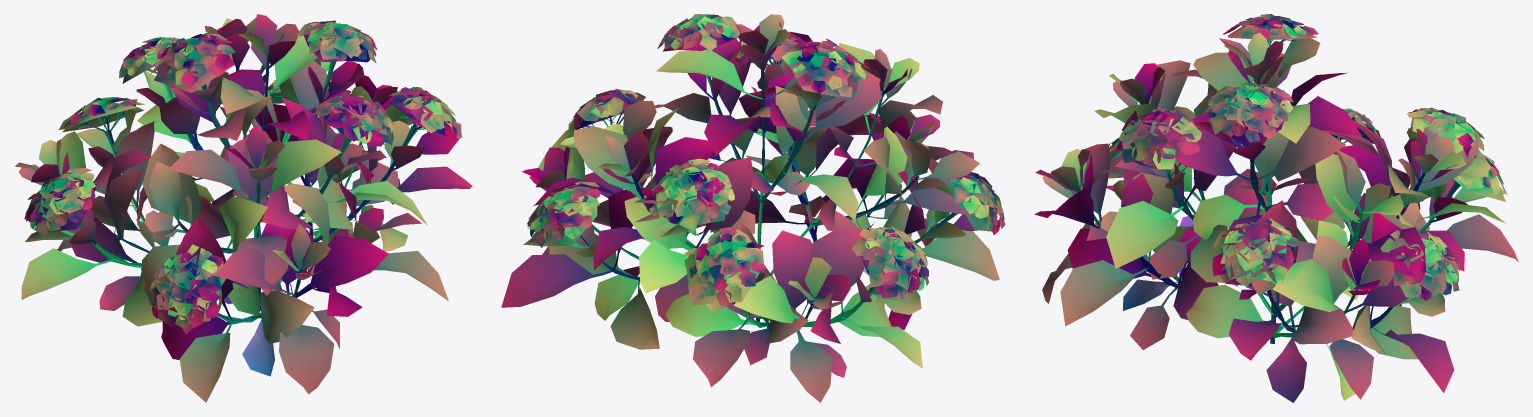
Rendered from Bigleaf_Hydrangea_vgztealha_Mid_vgztealha_VarA_LOD1.fbx.
The picture shows the model from 3 angles, left to right: view 1: azimuth 30°, elevation 25°; view 2: azimuth 150°, elevation 25°; view 3: azimuth 270°, elevation 25°; orthographic projection. The views are drawn at different scales.
Visible parts, largest first — view 1: _iuqp_VarA_LOD3; view 2: _iuqp_VarA_LOD3; view 3: _iuqp_VarA_LOD3.
Part boxes in pixels (bbox=[...]): _iuqp_VarA_LOD3: bbox=[14, 14, 472, 402]; _iuqp_VarA_LOD3: bbox=[501, 14, 1005, 402]; _iuqp_VarA_LOD3: bbox=[1034, 14, 1518, 402].
Bounding box in the file's own units: 104 × 72.13 × 105.
